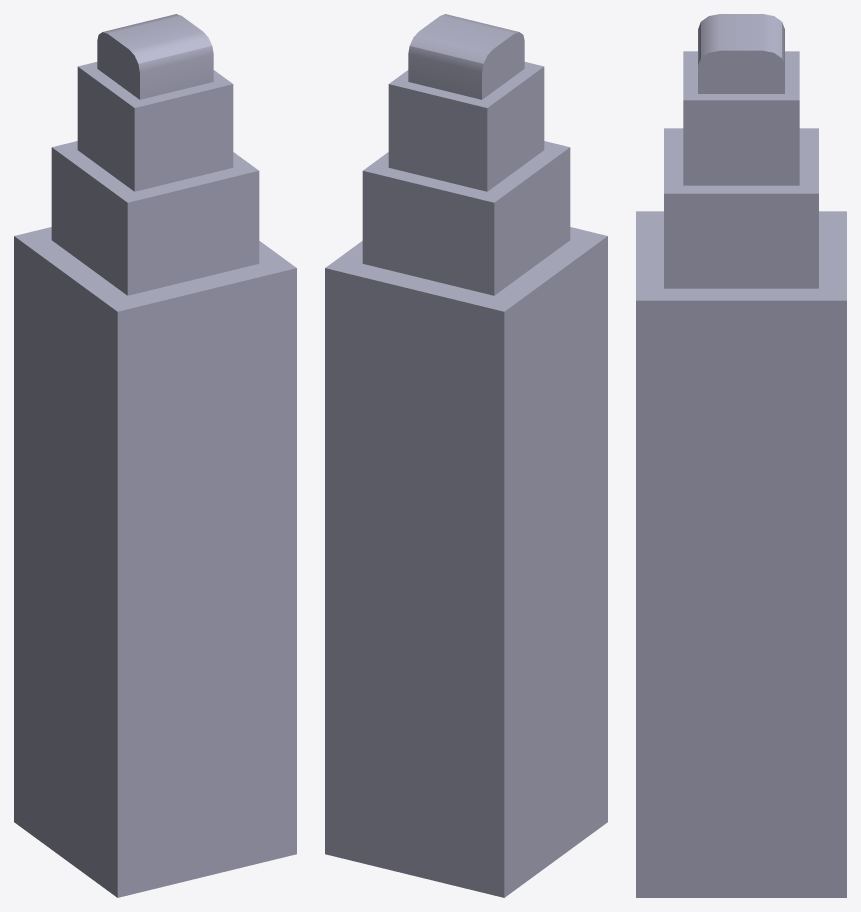
Rendered from stacked_build.fbx.
The picture shows the model from 3 angles, left to right: view 1: azimuth 30°, elevation 25°; view 2: azimuth 150°, elevation 25°; view 3: azimuth 270°, elevation 25°; orthographic projection.
Visible parts, largest first — view 1: stack_build12; view 2: stack_build12; view 3: stack_build12.
Part boxes in pixels (x1,y1,x2,y2): stack_build12: [14, 14, 296, 897]; stack_build12: [325, 14, 607, 897]; stack_build12: [636, 14, 846, 897].
Bounding box in the file's own units: 8 × 34.35 × 8.
